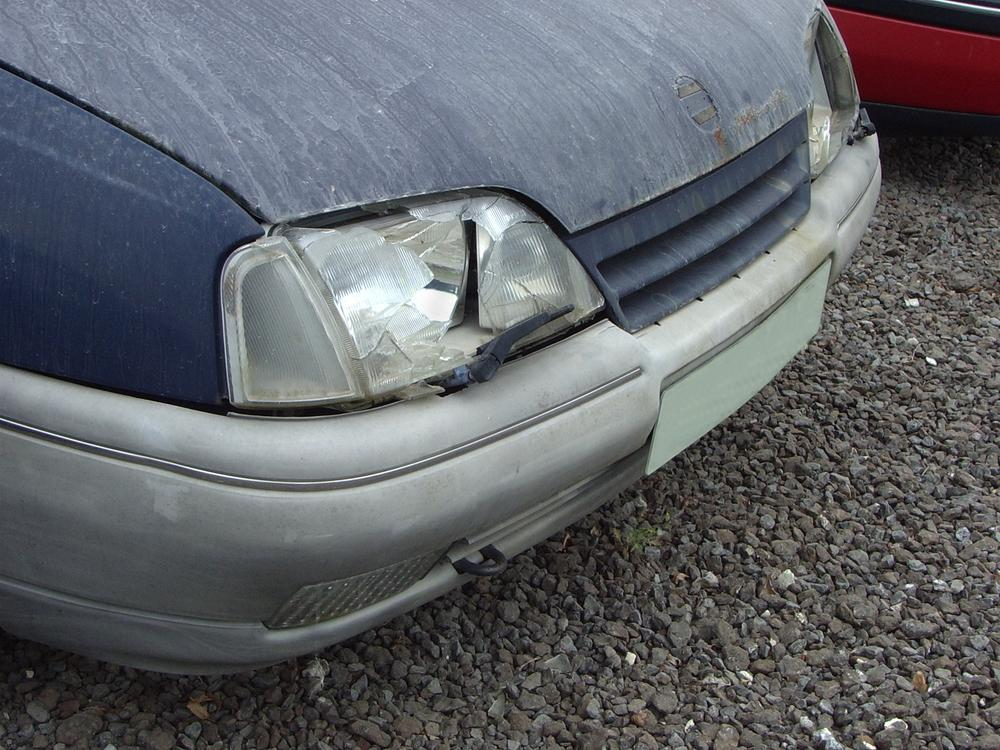lamp broken: (221, 191, 610, 415), (809, 2, 858, 180)
